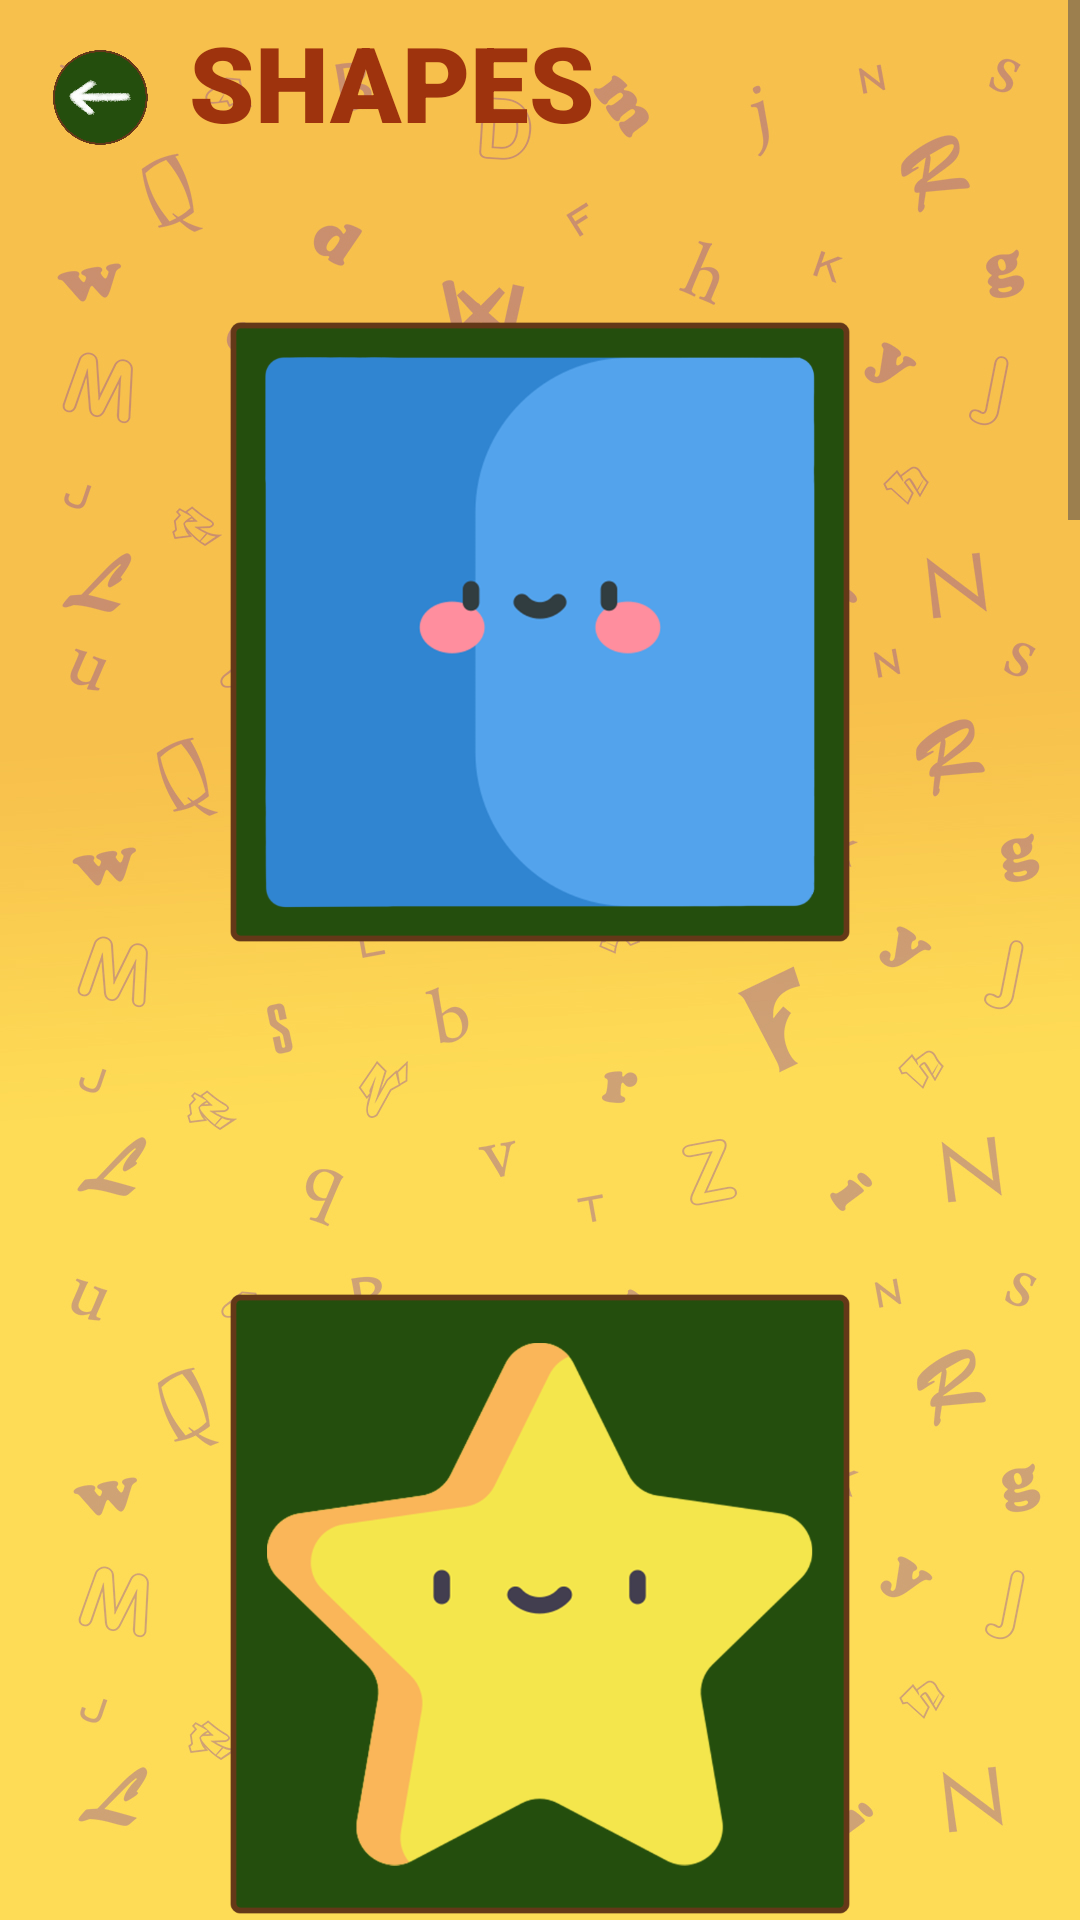

Icons on this 1080*1920 Android screen, each with the point to tap as point (x, y):
back: point (100, 97)
